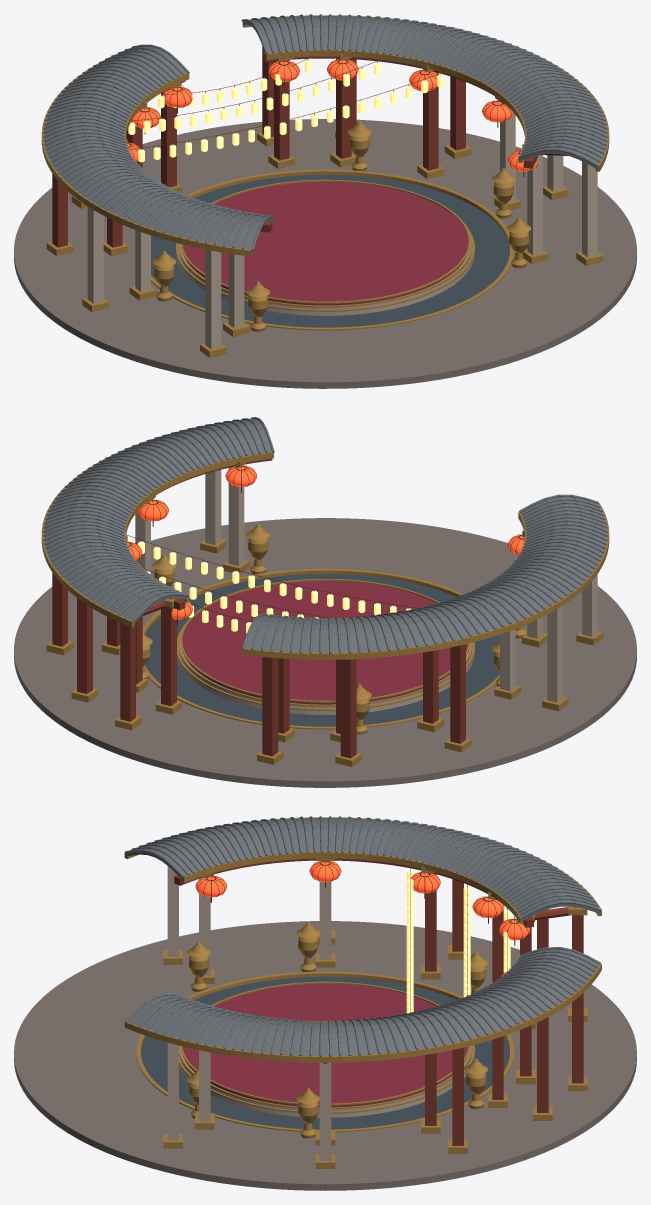
The picture shows the model from 3 angles, top to bottom: view 1: azimuth 30°, elevation 25°; view 2: azimuth 150°, elevation 25°; view 3: azimuth 270°, elevation 25°; orthographic projection.
Visible parts, largest first — view 1: WALKWAY_annular_solid_support, STAGE_solid_core, ROOF_R_thick_curved_solid, ROOF_L_thick_curved_solid, POOL_water_proxy, WALKWAY_pool_edge_band, EAVE_R_inner, EAVE_L_outer, POOL_retaining_wall, COL_L_OUT_0_shaft, STAGE_UPPER_LIP, COL_L_OUT_1_shaft (+24 smaller); view 2: WALKWAY_annular_solid_support, STAGE_solid_core, ROOF_L_thick_curved_solid, ROOF_R_thick_curved_solid, POOL_water_proxy, EAVE_L_outer, WALKWAY_pool_edge_band, COL_L_OUT_3_shaft, COL_L_OUT_4_shaft, COL_L_OUT_1_shaft, COL_L_OUT_2_shaft, COL_R_OUT_4_shaft (+21 smaller); view 3: WALKWAY_annular_solid_support, STAGE_solid_core, ROOF_R_thick_curved_solid, ROOF_L_thick_curved_solid, POOL_water_proxy, EAVE_R_outer, EAVE_L_inner, WALKWAY_pool_edge_band, POOL_retaining_wall, STAGE_UPPER_LIP, COL_R_OUT_1_shaft, COL_R_OUT_2_shaft (+25 smaller).
Boxes of the visible parts, left/top/right/bottom form: WALKWAY_annular_solid_support: left=14, top=119, right=636, bottom=388; STAGE_solid_core: left=182, top=181, right=468, bottom=305; ROOF_R_thick_curved_solid: left=243, top=16, right=606, bottom=169; ROOF_L_thick_curved_solid: left=44, top=46, right=272, bottom=253; POOL_water_proxy: left=151, top=174, right=509, bottom=327; WALKWAY_pool_edge_band: left=151, top=169, right=514, bottom=330; EAVE_R_inner: left=266, top=50, right=526, bottom=162; EAVE_L_outer: left=41, top=47, right=252, bottom=256; POOL_retaining_wall: left=151, top=171, right=510, bottom=327; COL_L_OUT_0_shaft: left=205, top=249, right=221, bottom=349; STAGE_UPPER_LIP: left=180, top=179, right=470, bottom=303; COL_L_OUT_1_shaft: left=87, top=206, right=103, bottom=303; WALKWAY_annular_solid_support: left=14, top=518, right=636, bottom=787; STAGE_solid_core: left=182, top=581, right=468, bottom=704; ROOF_L_thick_curved_solid: left=244, top=496, right=606, bottom=652; ROOF_R_thick_curved_solid: left=44, top=419, right=271, bottom=625; POOL_water_proxy: left=145, top=573, right=499, bottom=726; EAVE_L_outer: left=242, top=503, right=609, bottom=659; WALKWAY_pool_edge_band: left=142, top=568, right=499, bottom=729; COL_L_OUT_3_shaft: left=340, top=659, right=356, bottom=758; COL_L_OUT_4_shaft: left=262, top=657, right=278, bottom=756; COL_L_OUT_1_shaft: left=547, top=605, right=563, bottom=702; COL_L_OUT_2_shaft: left=450, top=644, right=465, bottom=743; COL_R_OUT_4_shaft: left=120, top=622, right=135, bottom=721; WALKWAY_annular_solid_support: left=14, top=921, right=636, bottom=1190; STAGE_solid_core: left=182, top=983, right=468, bottom=1107; ROOF_R_thick_curved_solid: left=127, top=949, right=599, bottom=1055; ROOF_L_thick_curved_solid: left=125, top=818, right=600, bottom=921; POOL_water_proxy: left=141, top=976, right=509, bottom=1129; EAVE_R_outer: left=124, top=964, right=601, bottom=1062; EAVE_L_inner: left=181, top=852, right=523, bottom=923; WALKWAY_pool_edge_band: left=136, top=971, right=514, bottom=1132; POOL_retaining_wall: left=140, top=973, right=510, bottom=1129; STAGE_UPPER_LIP: left=180, top=981, right=470, bottom=1105; COL_R_OUT_1_shaft: left=319, top=1062, right=331, bottom=1160; COL_R_OUT_2_shaft: left=452, top=1047, right=463, bottom=1145.
Size of the model in its own units: 21.6 by 5.32 by 21.6.
